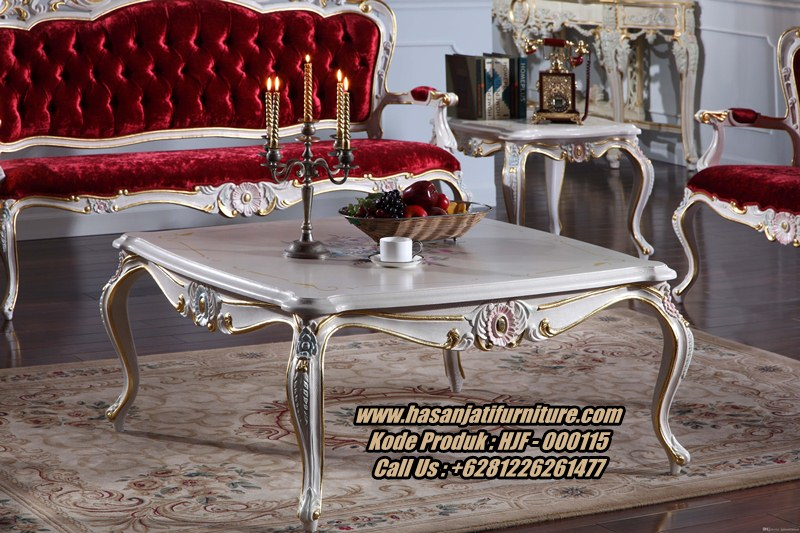Carving Table: (97, 208, 687, 507)
